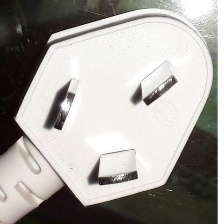three_eye_plug: (8, 5, 216, 213)
